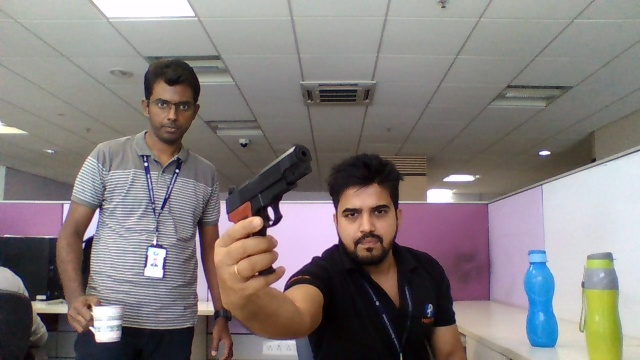gun: (220, 143, 315, 226)
